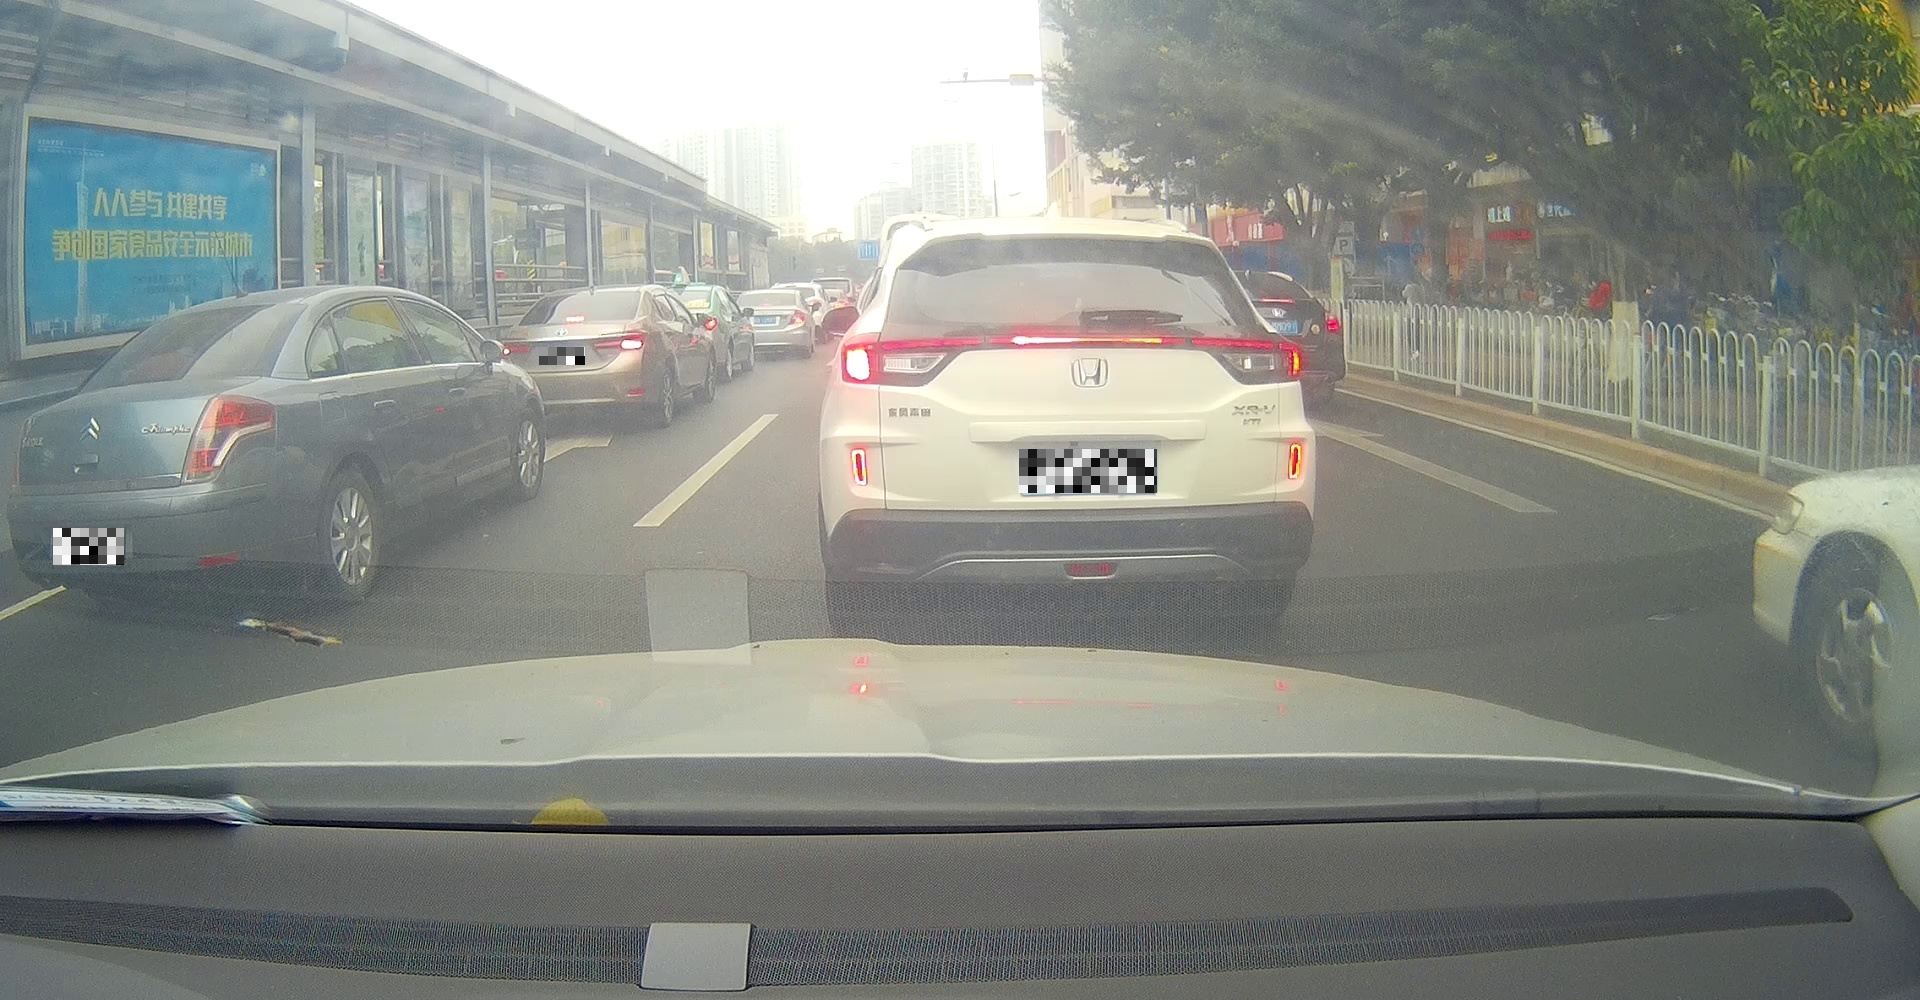L_light: (841, 336, 982, 390), (11, 451, 22, 489), (502, 345, 533, 357)
R_light: (178, 393, 277, 485), (1191, 338, 1302, 386), (593, 338, 643, 352)
T_light: (1012, 336, 1162, 343), (215, 308, 250, 316), (565, 315, 584, 322)
day-brake: (820, 216, 1316, 631), (500, 284, 653, 431)
day-no: (6, 286, 314, 607)
plate_1: (53, 528, 124, 565), (538, 346, 585, 365)
plate_3: (1018, 449, 1157, 492)
